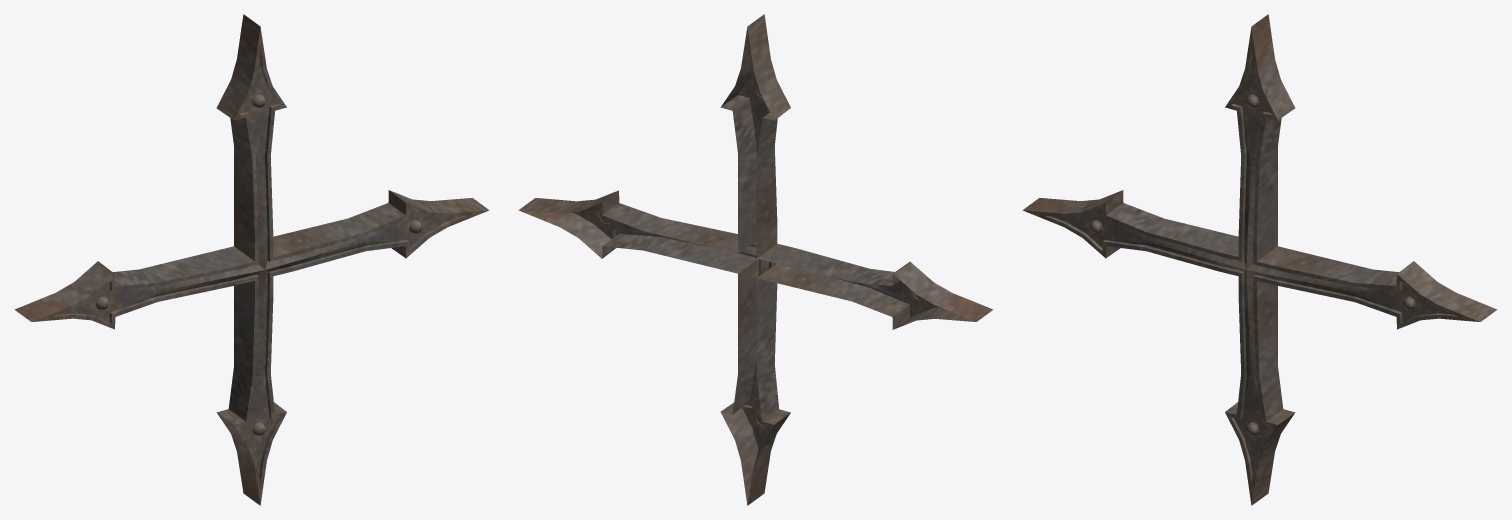
The model's file is Cross.fbx.
3 views of the same model, side by side, from view 1: azimuth 30°, elevation 25°; view 2: azimuth 150°, elevation 25°; view 3: azimuth 330°, elevation 25° (orthographic).
Parts seen in each view (by area): view 1: Cross; view 2: Cross; view 3: Cross.
Part boxes in pixels (x1=…): Cross: x1=14, y1=14, x2=489, y2=505; Cross: x1=518, y1=14, x2=993, y2=505; Cross: x1=1022, y1=14, x2=1497, y2=505.
Bounding box in the file's own units: 184 × 184 × 15.31.
